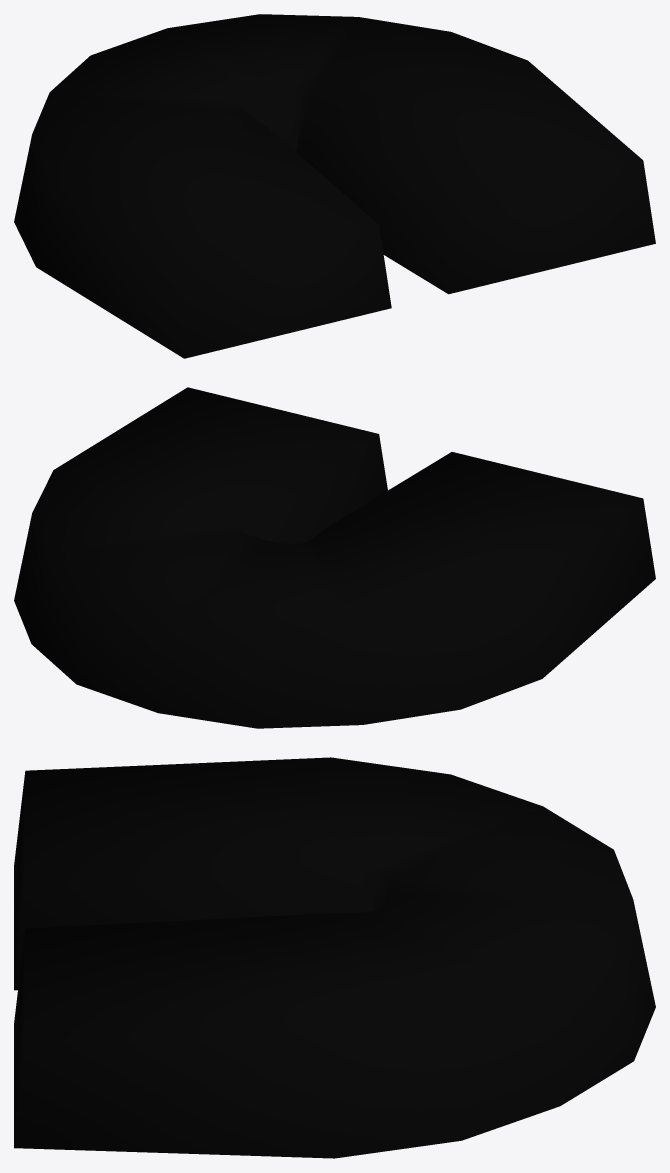
File: magnet.FBX
3 views of the same model, one above another, from view 1: azimuth 30°, elevation 25°; view 2: azimuth 150°, elevation 25°; view 3: azimuth 270°, elevation 25° (orthographic). The views are drawn at different scales.
Parts seen in each view (by area): view 1: magnet; view 2: magnet; view 3: magnet.
Boxes of the visible parts, x1,y1,x2,y2 form: magnet: (14,14,655,358); magnet: (14,387,655,728); magnet: (14,757,655,1158).
Size of the model in its own units: 0.8261 by 0.7406 by 0.1477.
